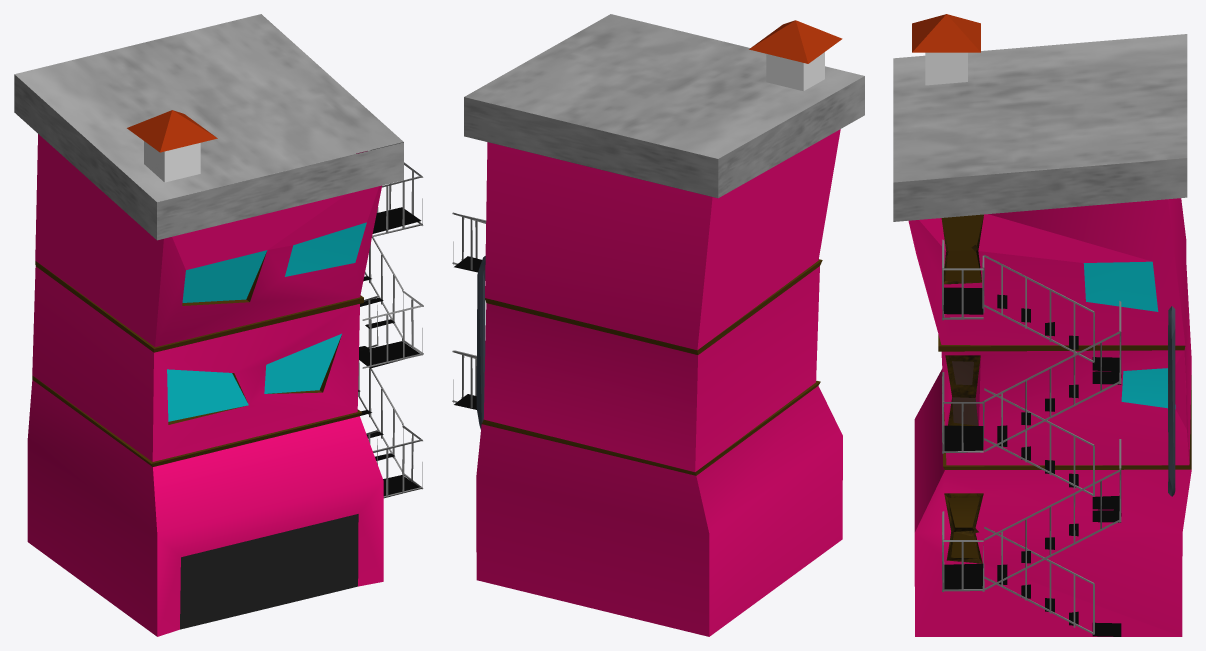
The model's file is PredioTorto-RosaLOD1.fbx.
3 renders of one model, left to right at view 1: azimuth 30°, elevation 25°; view 2: azimuth 150°, elevation 25°; view 3: azimuth 270°, elevation 25°, orthographic. The views are drawn at different scales.
Visible parts, largest first — view 1: Predio3AndaresLOD1; view 2: Predio3AndaresLOD1; view 3: Predio3AndaresLOD1.
Boxes of the visible parts, box(x1,y1,x2,y2) form: Predio3AndaresLOD1: box(14, 14, 423, 636); Predio3AndaresLOD1: box(452, 14, 864, 636); Predio3AndaresLOD1: box(893, 14, 1191, 636).
Size of the model in its own units: 1035 by 1727 by 892.
